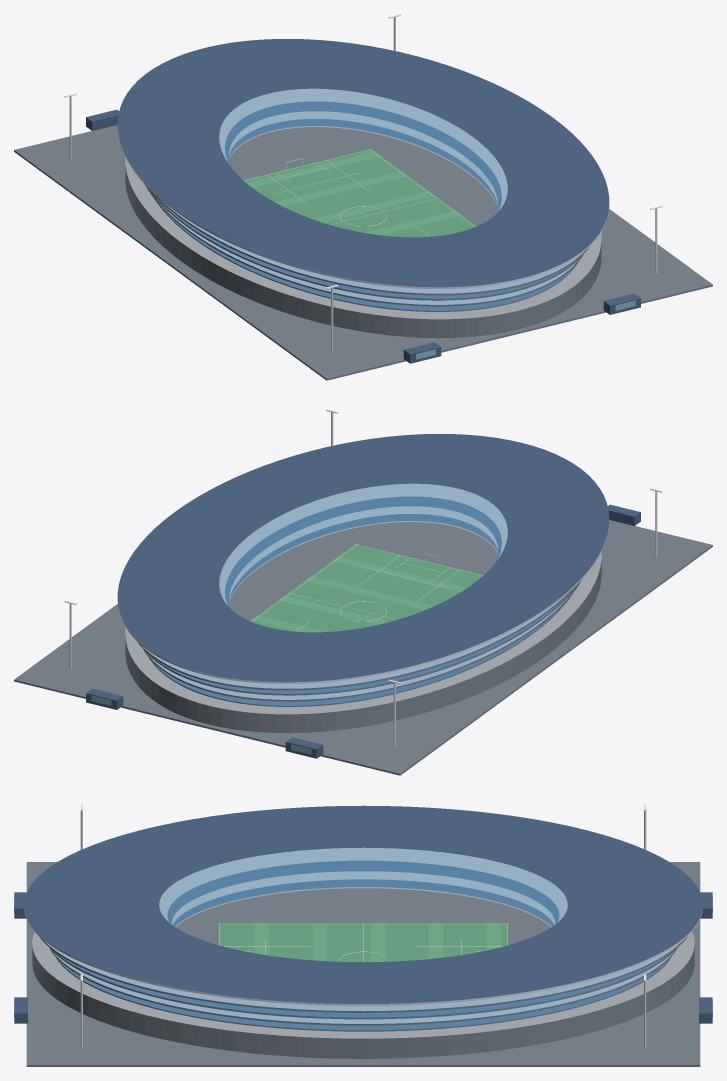
File: legacy_arena_stadium.glb
3 views of the same model, one above another, from view 1: azimuth 30°, elevation 25°; view 2: azimuth 150°, elevation 25°; view 3: azimuth 270°, elevation 25° (orthographic). The views are drawn at different scales.
Parts seen in each view (by area): view 1: Roof_Canopy, Stadium_Site_Base, Outer_Stadium_Facade, Football_Pitch_Base, Seating_Tier_4, Concourse_Ring_Level_1, Seating_Tier_3, Seating_Tier_2, Seating_Tier_1, Roof_Fascia, Tier_4_Outer_Riser, Tier_2_Outer_Riser (+9 smaller); view 2: Roof_Canopy, Stadium_Site_Base, Outer_Stadium_Facade, Football_Pitch_Base, Seating_Tier_4, Concourse_Ring_Level_1, Seating_Tier_3, Seating_Tier_2, Seating_Tier_1, Roof_Fascia, Tier_4_Outer_Riser, Tier_2_Outer_Riser (+9 smaller); view 3: Roof_Canopy, Stadium_Site_Base, Outer_Stadium_Facade, Seating_Tier_4, Concourse_Ring_Level_1, Seating_Tier_3, Seating_Tier_2, Seating_Tier_1, Football_Pitch_Base, Roof_Fascia, Tier_4_Outer_Riser, Tier_3_Outer_Riser (+10 smaller).
Part boxes in pixels (bbox=[...]): Roof_Canopy: bbox=[117, 39, 609, 287]; Stadium_Site_Base: bbox=[14, 125, 712, 380]; Outer_Stadium_Facade: bbox=[125, 165, 601, 338]; Football_Pitch_Base: bbox=[243, 149, 476, 236]; Seating_Tier_4: bbox=[161, 88, 583, 293]; Concourse_Ring_Level_1: bbox=[125, 126, 601, 319]; Seating_Tier_3: bbox=[152, 101, 572, 298]; Seating_Tier_2: bbox=[156, 111, 579, 304]; Seating_Tier_1: bbox=[161, 119, 574, 310]; Roof_Fascia: bbox=[117, 129, 609, 288]; Tier_4_Outer_Riser: bbox=[147, 187, 589, 295]; Tier_2_Outer_Riser: bbox=[147, 188, 583, 306]; Roof_Canopy: bbox=[117, 434, 609, 682]; Stadium_Site_Base: bbox=[14, 520, 712, 775]; Outer_Stadium_Facade: bbox=[125, 560, 601, 733]; Football_Pitch_Base: bbox=[250, 544, 483, 631]; Seating_Tier_4: bbox=[143, 483, 565, 688]; Concourse_Ring_Level_1: bbox=[125, 521, 601, 714]; Seating_Tier_3: bbox=[154, 496, 574, 693]; Seating_Tier_2: bbox=[147, 506, 570, 699]; Seating_Tier_1: bbox=[152, 514, 565, 705]; Roof_Fascia: bbox=[117, 524, 609, 683]; Tier_4_Outer_Riser: bbox=[137, 582, 579, 690]; Tier_2_Outer_Riser: bbox=[143, 583, 579, 701]; Roof_Canopy: bbox=[24, 805, 702, 1003]; Stadium_Site_Base: bbox=[26, 862, 700, 1066]; Outer_Stadium_Facade: bbox=[32, 946, 694, 1058]; Seating_Tier_4: bbox=[43, 847, 683, 1011]; Concourse_Ring_Level_1: bbox=[32, 887, 694, 1038]; Seating_Tier_3: bbox=[56, 860, 670, 1017]; Seating_Tier_2: bbox=[52, 871, 674, 1023]; Seating_Tier_1: bbox=[58, 879, 668, 1030]; Football_Pitch_Base: bbox=[218, 923, 508, 961]; Roof_Fascia: bbox=[24, 907, 702, 1006]; Tier_4_Outer_Riser: bbox=[39, 936, 687, 1012]; Tier_3_Outer_Riser: bbox=[50, 948, 676, 1019].
Size of the model in its own units: 174 by 29.23 by 253.
